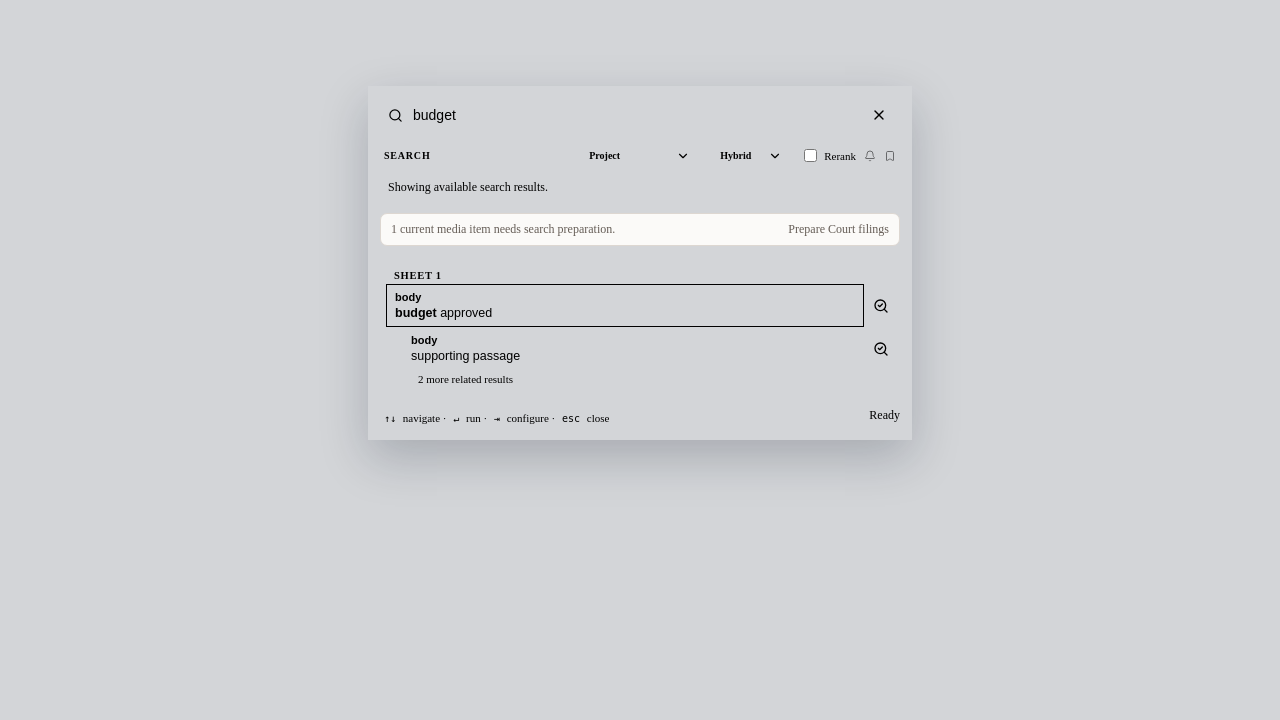
Test: located palette search › ignores late initial approval restoration after preparing a different sheet
This screenshot has width=1280, height=720.
Step 1. Click the button with test id "search-preparation-gap-action" → (839, 230), box [788,222,889,237]
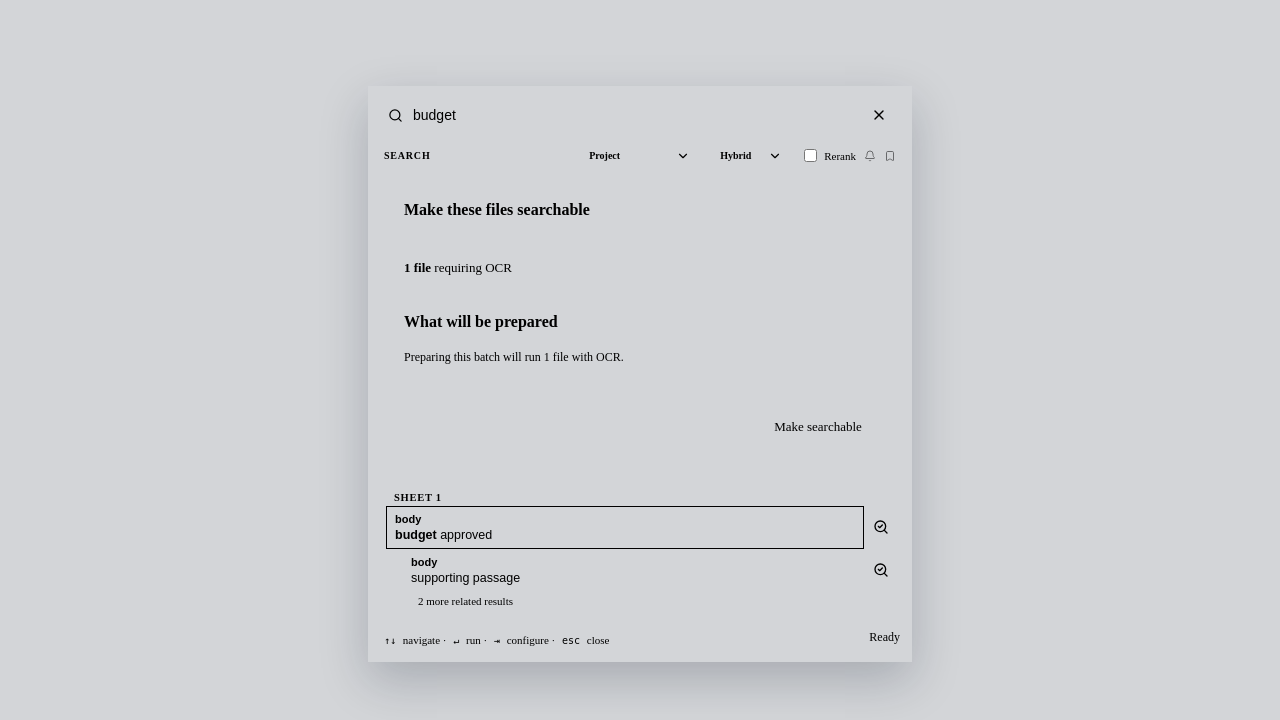
expect the button with test id "search-preparation-decision-prepare" is shown: met, box [760,419,876,435]
